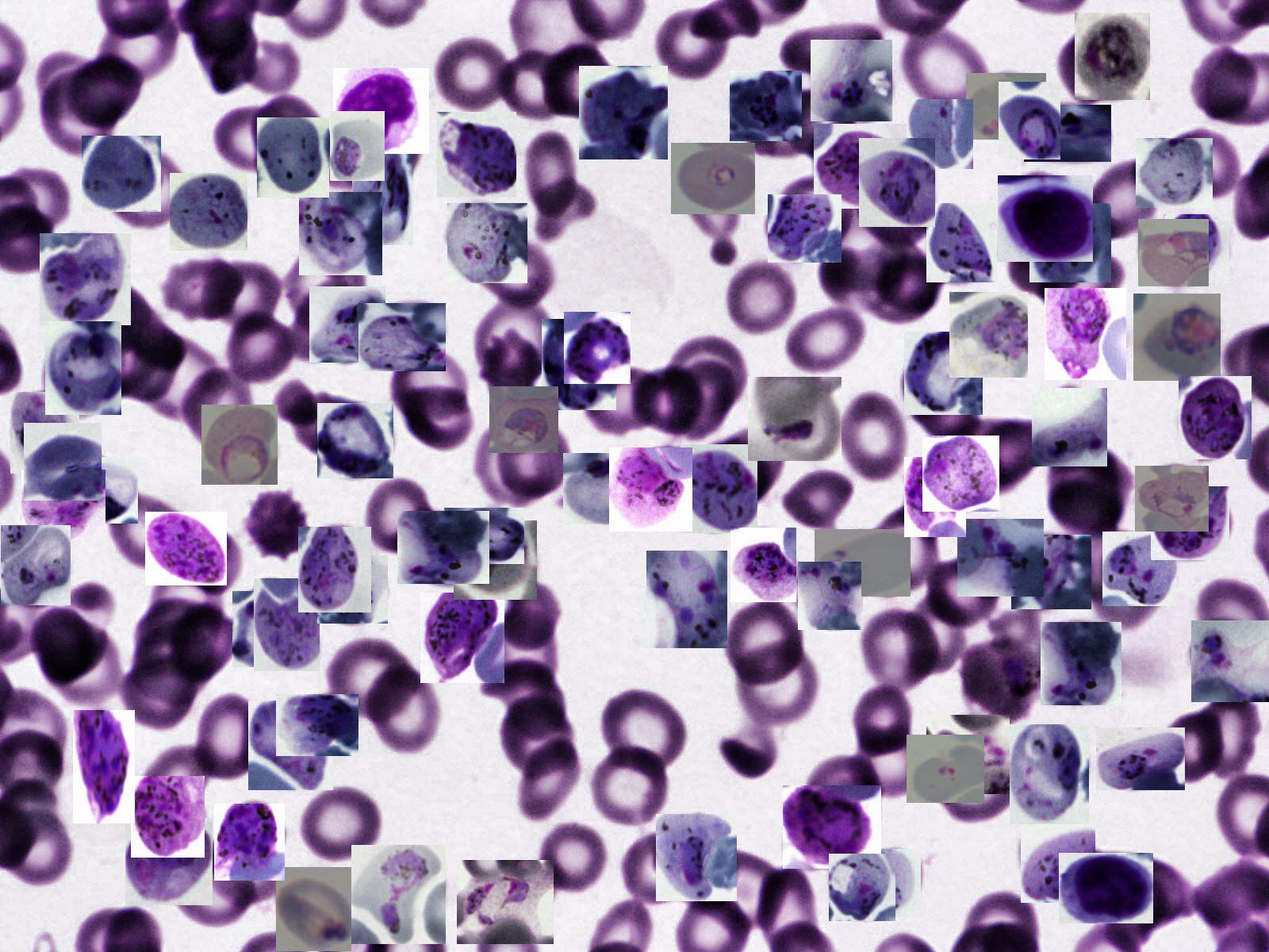Infected: (351, 845, 446, 944), (40, 233, 131, 325), (579, 66, 668, 159), (998, 175, 1093, 262), (783, 785, 881, 869), (334, 68, 429, 154), (457, 860, 554, 944), (814, 124, 908, 209), (957, 636, 1043, 728), (1010, 724, 1089, 824), (748, 377, 842, 461), (646, 551, 727, 648), (1133, 294, 1221, 381), (125, 818, 213, 905), (248, 701, 333, 791), (420, 593, 504, 684), (563, 453, 669, 524), (1045, 288, 1126, 380), (45, 321, 121, 415), (609, 447, 692, 532), (657, 814, 738, 901), (73, 710, 135, 823), (299, 192, 382, 275), (681, 444, 758, 533), (949, 292, 1028, 378), (957, 519, 1044, 597), (859, 138, 935, 227), (542, 319, 616, 410), (397, 511, 489, 584), (437, 112, 516, 197), (1021, 813, 1095, 903), (1041, 622, 1121, 705), (454, 520, 537, 600), (926, 715, 1010, 794), (1059, 853, 1153, 923), (811, 40, 892, 121), (904, 332, 983, 415), (815, 529, 911, 597), (1075, 13, 1150, 100), (1029, 203, 1111, 282), (447, 203, 527, 283), (1191, 620, 1269, 702), (352, 141, 413, 245), (276, 867, 351, 951), (298, 527, 371, 612), (201, 405, 278, 485), (254, 578, 320, 671), (24, 423, 102, 501), (131, 776, 205, 858), (1179, 376, 1252, 459), (170, 173, 247, 251), (82, 136, 161, 212), (145, 512, 227, 585), (358, 303, 446, 371), (671, 143, 755, 214), (1011, 535, 1091, 609), (21, 470, 105, 540), (310, 286, 386, 363), (922, 436, 999, 512), (1032, 388, 1107, 466), (257, 117, 329, 198), (1151, 486, 1229, 560), (317, 403, 393, 478), (926, 203, 997, 282), (1096, 727, 1185, 790), (1, 525, 71, 605), (11, 392, 79, 474), (1102, 532, 1177, 606), (214, 804, 285, 881), (232, 591, 303, 667), (1136, 138, 1213, 208), (966, 73, 1046, 140), (907, 735, 984, 803), (730, 71, 803, 141), (768, 194, 842, 263), (276, 694, 358, 756), (904, 457, 966, 537), (1024, 105, 1111, 162), (317, 555, 388, 624), (849, 849, 921, 917), (1135, 466, 1209, 532), (730, 528, 796, 602), (564, 312, 631, 384), (1138, 219, 1209, 286), (999, 82, 1060, 159), (69, 457, 138, 524), (489, 386, 558, 453), (907, 99, 973, 169), (1164, 214, 1229, 283), (444, 508, 524, 564), (829, 854, 895, 921), (798, 562, 861, 630), (330, 111, 385, 181)
Uninfected: (667, 842, 787, 925), (1041, 439, 1132, 541), (899, 21, 995, 117), (471, 298, 557, 405), (283, 238, 368, 337), (322, 635, 419, 720), (934, 738, 1025, 823), (835, 386, 910, 486), (803, 752, 884, 844), (131, 340, 227, 417), (867, 500, 945, 593), (100, 149, 190, 228), (297, 782, 381, 866), (477, 658, 572, 732), (75, 317, 158, 401), (736, 642, 821, 724), (784, 297, 869, 378), (475, 420, 553, 508), (588, 746, 671, 828), (36, 72, 118, 155), (600, 693, 685, 773), (1152, 705, 1232, 790), (433, 36, 516, 117), (1079, 159, 1160, 242), (138, 743, 213, 832), (109, 493, 192, 573), (361, 474, 437, 561), (172, 846, 255, 925), (132, 622, 214, 701), (387, 344, 471, 420), (98, 7, 178, 86), (42, 624, 120, 705), (669, 336, 748, 415), (343, 106, 420, 187), (138, 600, 219, 677), (727, 600, 803, 682), (863, 609, 939, 691), (190, 697, 265, 780), (364, 669, 440, 750), (579, 359, 662, 433), (723, 255, 796, 339), (711, 424, 787, 504), (120, 653, 201, 728), (485, 608, 560, 689), (221, 306, 299, 383), (179, 371, 257, 448), (907, 367, 980, 449), (542, 44, 622, 118), (500, 695, 573, 776), (206, 829, 282, 905), (168, 605, 243, 682), (67, 52, 141, 129), (923, 559, 1003, 630), (212, 107, 295, 175), (1198, 689, 1259, 781), (157, 260, 246, 323), (76, 278, 151, 352), (653, 10, 731, 81), (859, 174, 934, 247), (3, 808, 76, 883), (499, 49, 575, 121), (778, 86, 854, 158), (780, 20, 885, 72), (477, 237, 557, 305), (499, 420, 571, 495), (255, 94, 327, 169), (25, 608, 96, 684), (622, 832, 698, 903), (1042, 252, 1128, 314), (1057, 29, 1129, 103), (205, 259, 282, 327), (239, 490, 311, 562), (669, 359, 733, 440), (1191, 45, 1260, 120), (778, 174, 850, 245), (973, 419, 1046, 489), (1171, 125, 1240, 199), (1008, 234, 1084, 301), (780, 469, 863, 530), (816, 247, 899, 308), (851, 685, 920, 758), (292, 393, 368, 459), (867, 251, 942, 317), (907, 593, 968, 674), (539, 823, 606, 896), (524, 130, 578, 220), (523, 738, 580, 823), (45, 446, 110, 520), (758, 867, 816, 949), (404, 384, 473, 451), (499, 581, 562, 651), (633, 368, 701, 432), (182, 528, 243, 597)
